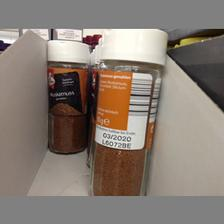Gewuerze: (88, 28, 168, 196), (46, 38, 90, 154)
